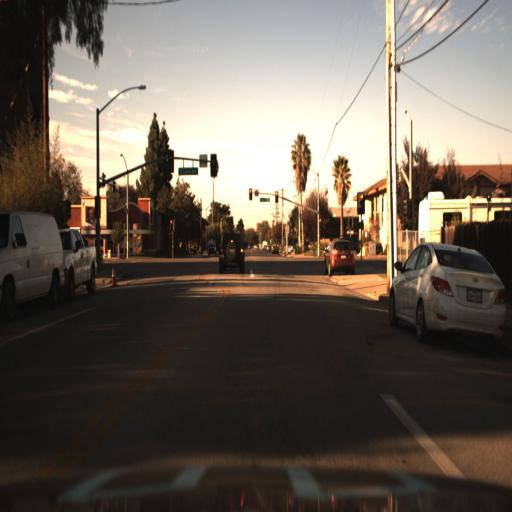car: (383, 235, 509, 349), (0, 208, 65, 316), (56, 220, 110, 300), (60, 220, 101, 306), (210, 222, 252, 276), (317, 233, 359, 279), (322, 239, 360, 275), (216, 231, 247, 271), (205, 233, 220, 261)
trafficLight-Red: (355, 185, 369, 220), (355, 187, 368, 220), (163, 214, 178, 235), (244, 184, 256, 203), (271, 189, 282, 204), (315, 212, 324, 230)
